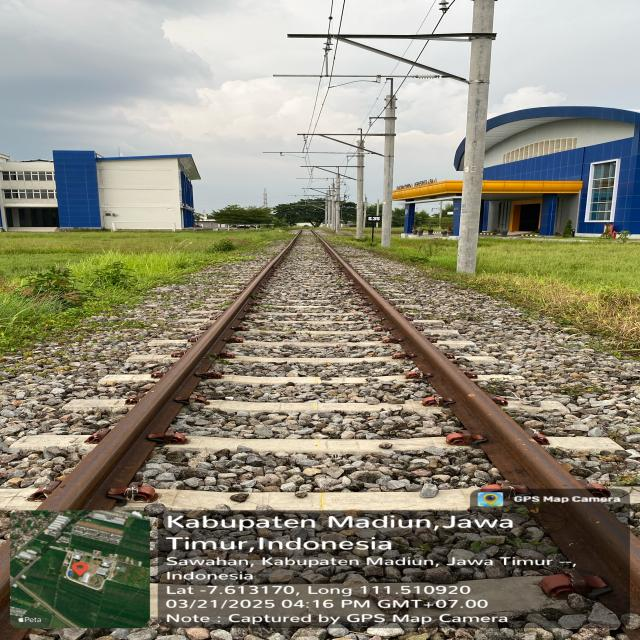rail-detection: (312, 229, 640, 609), (38, 229, 301, 510)
